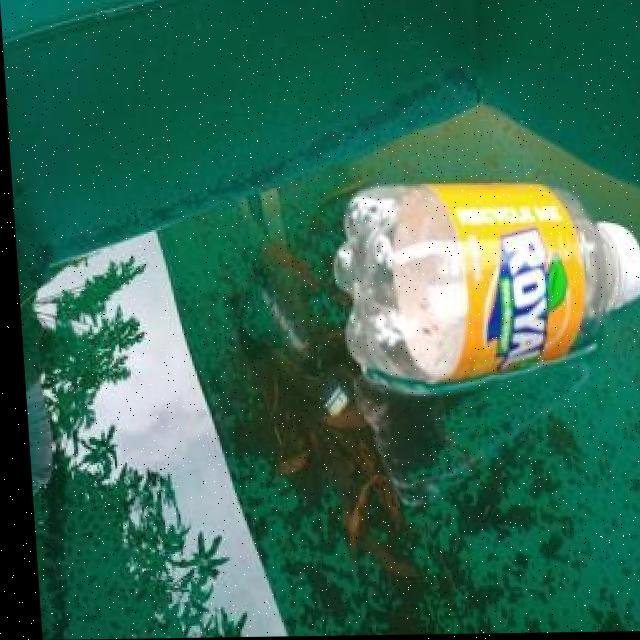bottle: (321, 174, 640, 399)
